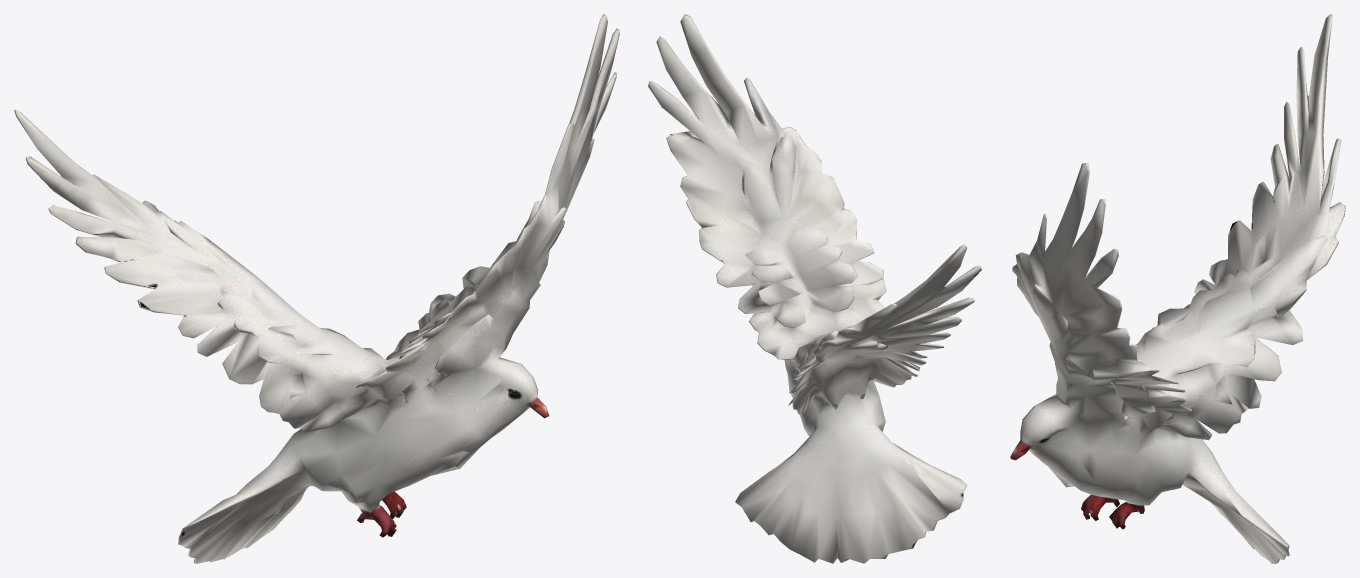
File: pomba.glb
The picture shows the model from 3 angles, left to right: view 1: azimuth 30°, elevation 25°; view 2: azimuth 150°, elevation 25°; view 3: azimuth 270°, elevation 25°; orthographic projection. The views are drawn at different scales.
Parts seen in each view (by area): view 1: tripo_node_1e016245-17c9-4d10-bc14-c1fb692bf172; view 2: tripo_node_1e016245-17c9-4d10-bc14-c1fb692bf172; view 3: tripo_node_1e016245-17c9-4d10-bc14-c1fb692bf172.
Boxes of the visible parts, x1,y1,x2,y2 form: tripo_node_1e016245-17c9-4d10-bc14-c1fb692bf172: [14, 14, 619, 563]; tripo_node_1e016245-17c9-4d10-bc14-c1fb692bf172: [648, 14, 981, 563]; tripo_node_1e016245-17c9-4d10-bc14-c1fb692bf172: [1010, 14, 1345, 563].
Bounding box in the file's own units: 0.9518 × 0.9785 × 0.5726.
Materials: 1 (1 with a texture image).
